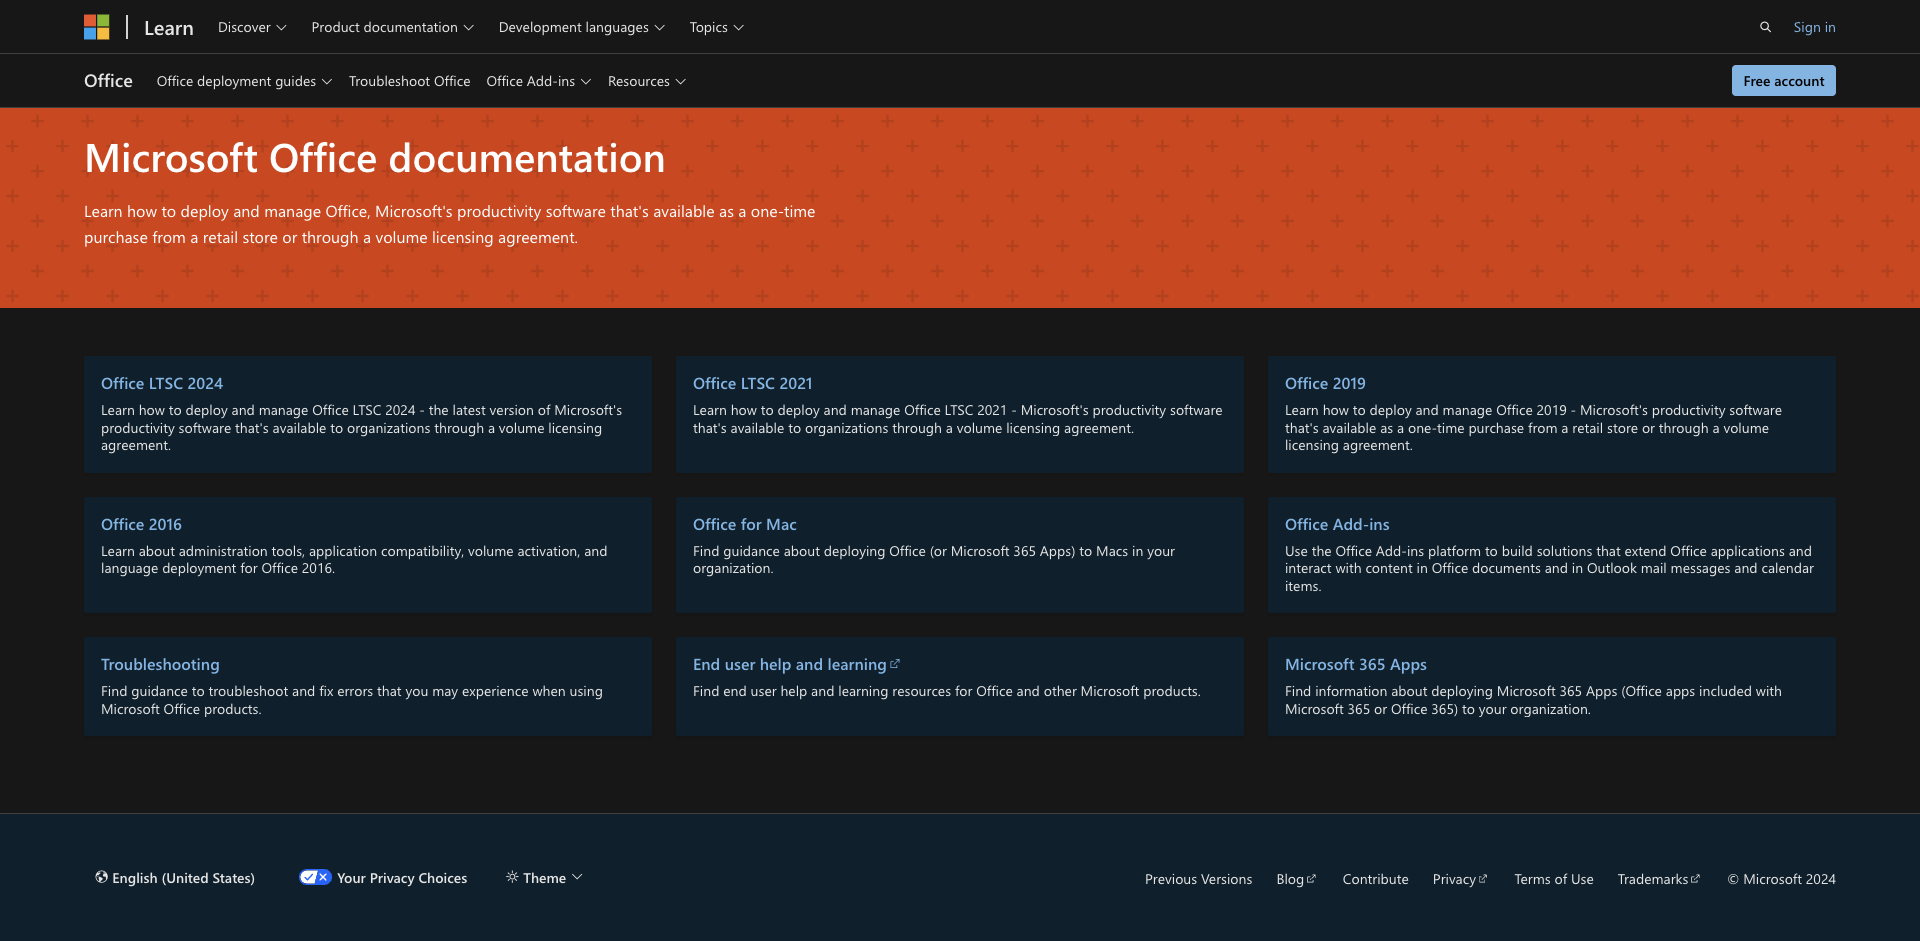button: (148, 54, 342, 107), (491, 0, 673, 53), (304, 0, 482, 53), (342, 54, 479, 107), (479, 54, 600, 107), (283, 861, 479, 893), (84, 861, 267, 893), (600, 54, 694, 107), (209, 0, 295, 53), (1731, 65, 1836, 104), (682, 0, 753, 53), (1731, 65, 1836, 97), (495, 861, 595, 893), (1746, 9, 1785, 44), (1794, 13, 1836, 39)
dropdown: (148, 54, 342, 107), (479, 54, 600, 107), (600, 54, 694, 107), (495, 861, 595, 893)
link: (100, 372, 636, 393), (693, 372, 1227, 393), (1284, 372, 1818, 393), (100, 513, 636, 533), (100, 654, 636, 674), (693, 513, 1227, 533), (1284, 513, 1818, 533), (693, 654, 1227, 674), (1284, 654, 1818, 674), (136, 7, 202, 45), (1145, 869, 1253, 887), (84, 62, 132, 99), (1618, 869, 1703, 887), (1515, 869, 1594, 887), (1343, 869, 1409, 887), (1433, 869, 1490, 887), (0, 0, 31, 31), (1276, 869, 1319, 887), (84, 13, 110, 39)
